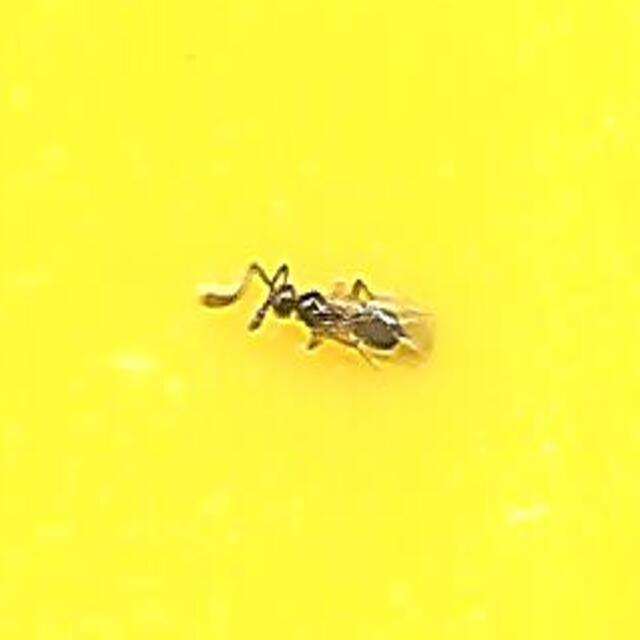Hymenoptera: (201, 261, 439, 379)
